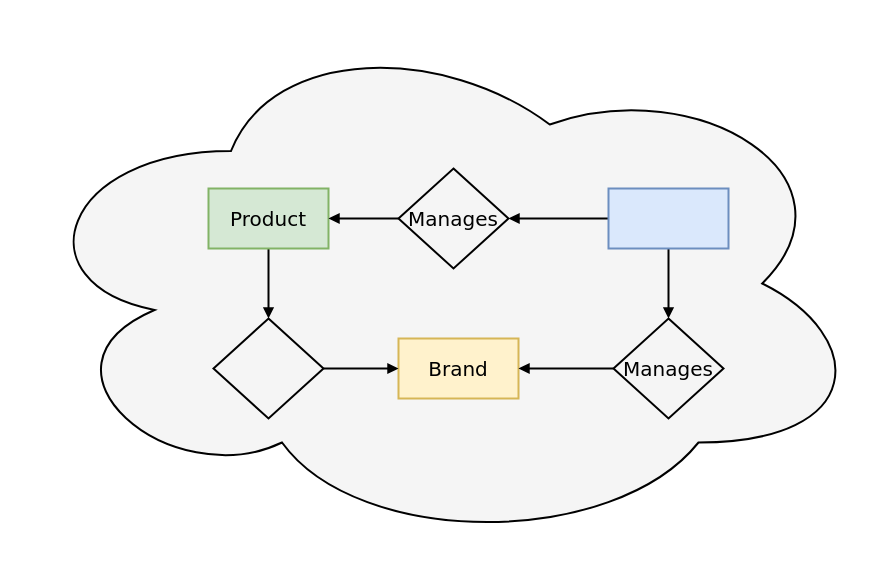
Some shapes in this 886 by 566 pixel diagram are drawn without their labels. The shapes that lost their labels are listed below. From the top down, each one's box as (x1, y1, x2, y2) in pixels, then its label:
(607, 187, 729, 249): Admin
(212, 317, 324, 419): Has
